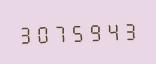five: (68, 20, 84, 43)
four: (102, 19, 118, 42)
nine: (85, 19, 101, 43)
seven: (51, 20, 67, 44)
three: (17, 22, 33, 45), (119, 18, 135, 41)
zero: (34, 21, 50, 44)
